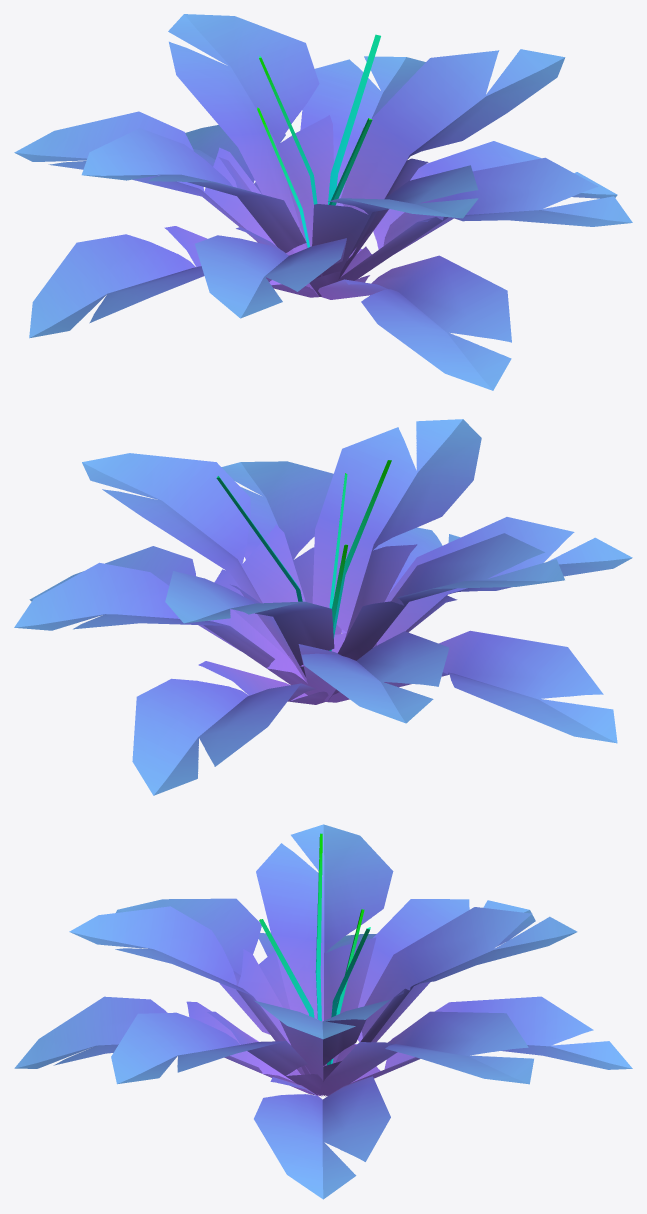
Rendered from FernV1.fbx.
3 views of the same model, one above another, from view 1: azimuth 30°, elevation 25°; view 2: azimuth 150°, elevation 25°; view 3: azimuth 270°, elevation 25° (orthographic). The views are drawn at different scales.
Parts seen in each view (by area): view 1: FernV1; view 2: FernV1; view 3: FernV1.
Part boxes in pixels (x1,y1,x2,y2): FernV1: [14, 14, 632, 390]; FernV1: [14, 419, 632, 795]; FernV1: [14, 824, 632, 1199].
Bounding box in the file's own units: 5.47 × 2.27 × 5.47.
Materials: 1 (1 with a texture image).
